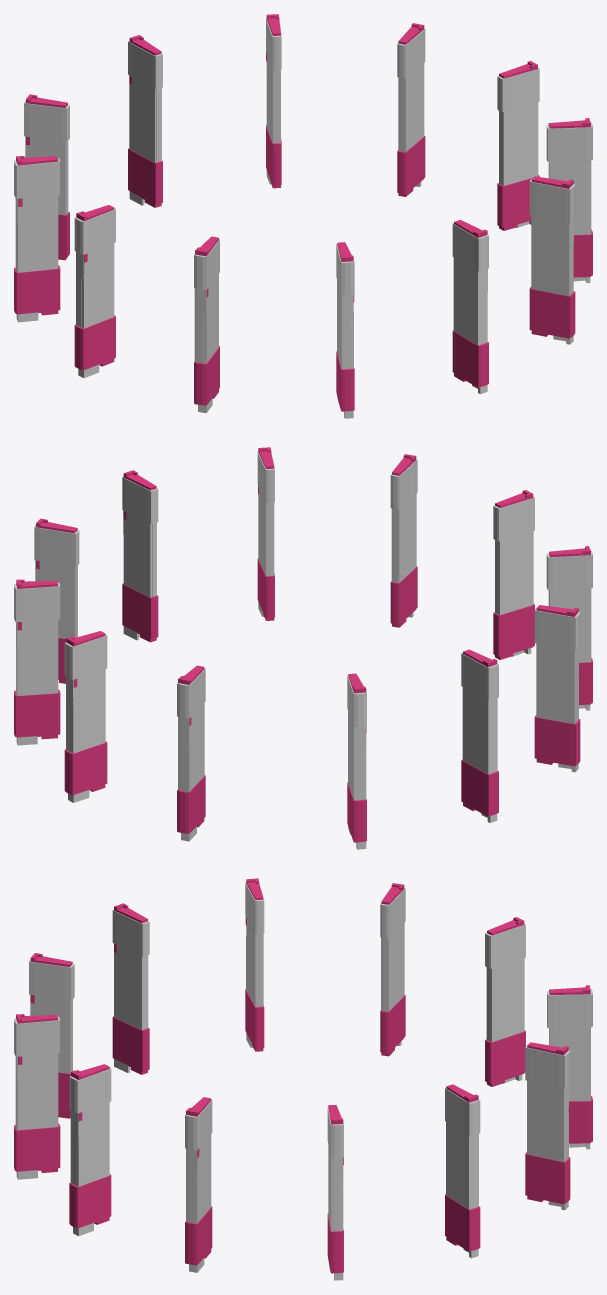
File: array_pillar_ring_1.fbx
3 views of the same model, one above another, from view 1: azimuth 30°, elevation 25°; view 2: azimuth 150°, elevation 25°; view 3: azimuth 270°, elevation 25° (orthographic).
Visible parts, largest first — view 1: Cube.006 plating; view 2: Cube.006 plating; view 3: Cube.006 plating.
Part boxes in pixels (<box>): Cube.006 plating: <box>14,14,592,418</box>; Cube.006 plating: <box>14,447,592,849</box>; Cube.006 plating: <box>14,878,592,1280</box>.
Bounding box in the file's own units: 9445 × 2895 × 9478.
